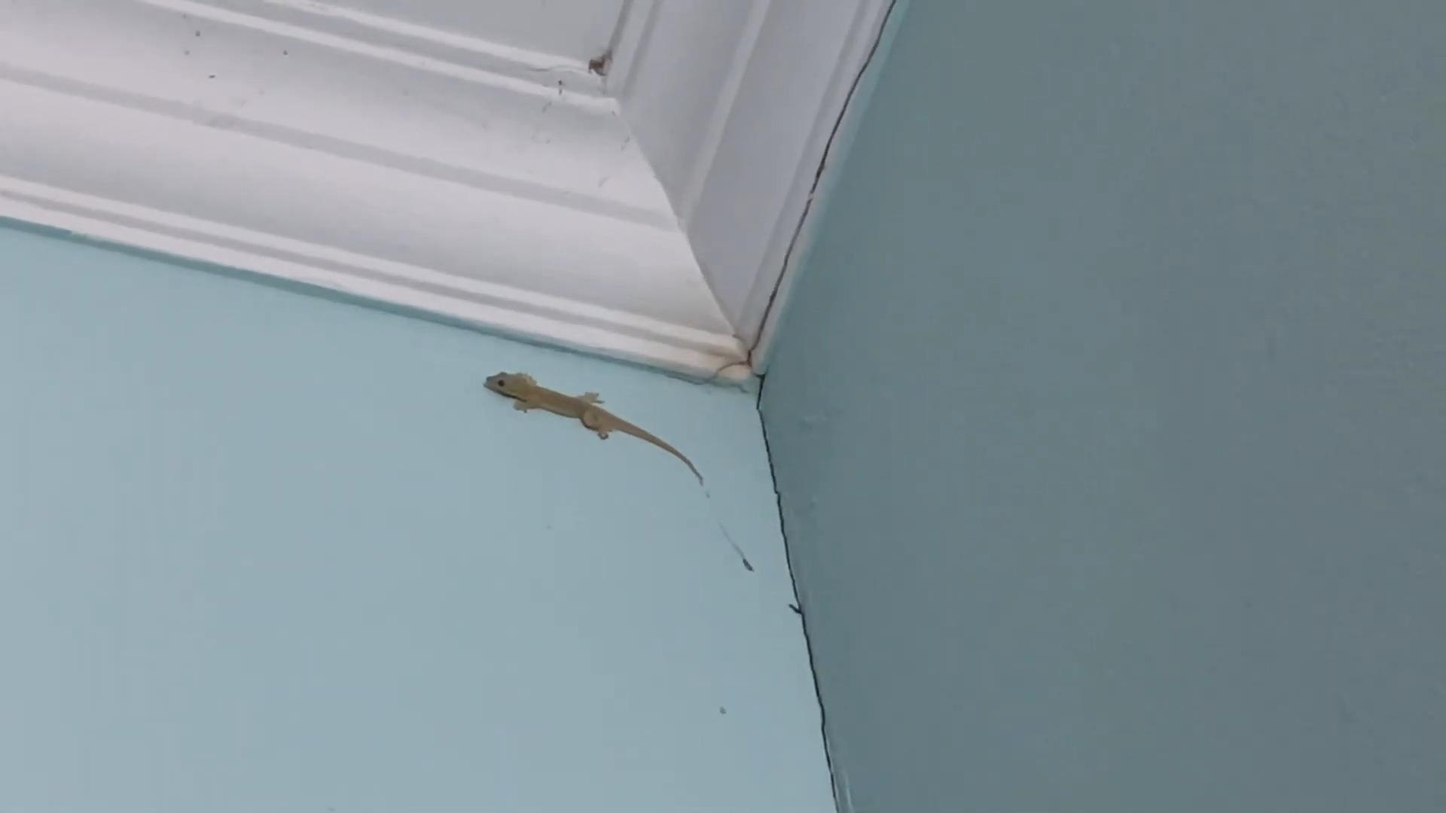lizard: (479, 368, 650, 476)
